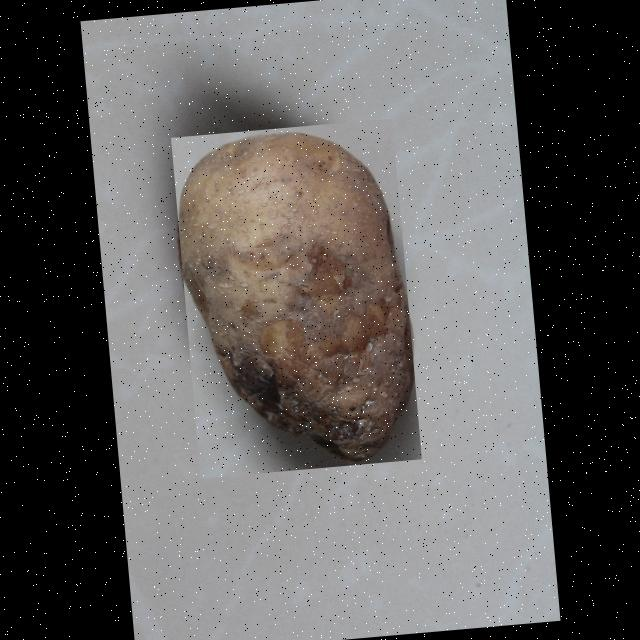Diseased-fungal potato: (170, 117, 422, 477)
